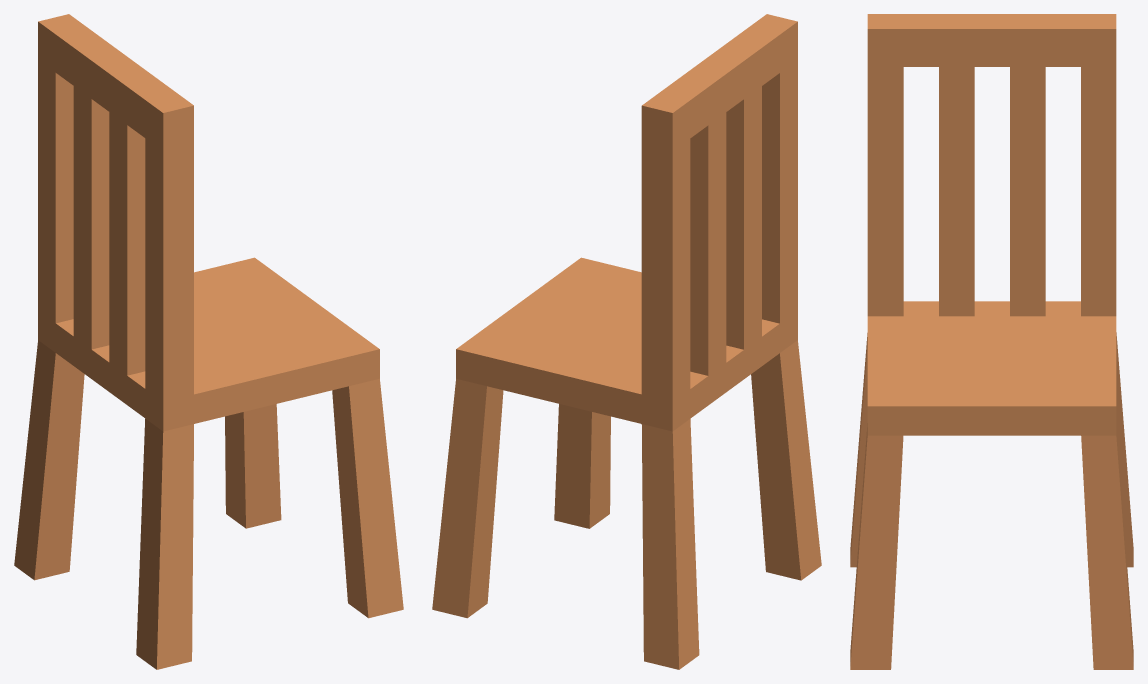
Rendered from chair-by-blenderogreniyorum-E1c1PSPeiq.glb.
3 renders of one model, left to right at view 1: azimuth 30°, elevation 25°; view 2: azimuth 150°, elevation 25°; view 3: azimuth 270°, elevation 25°, orthographic.
Visible parts, largest first — view 1: Cube; view 2: Cube; view 3: Cube.
Boxes of the visible parts, x1,y1,x2,y2 form: Cube: (14, 14, 403, 669); Cube: (432, 14, 821, 669); Cube: (850, 14, 1133, 669).
Bounding box in the file's own units: 3.81 × 8.06 × 3.81.
